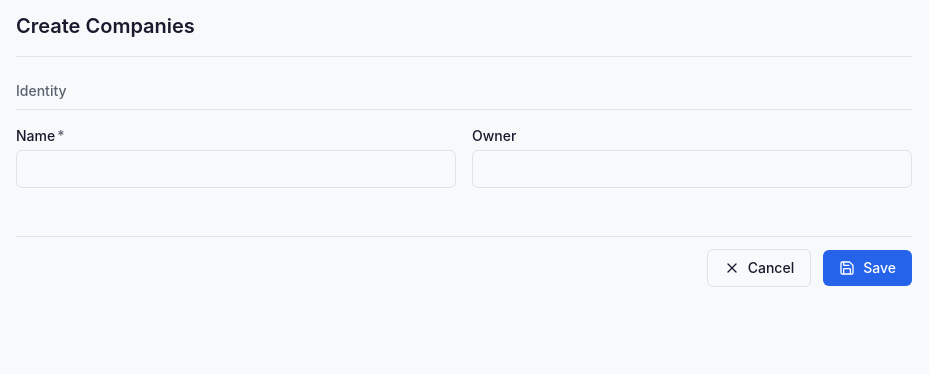
Test: Explicit fixed relationship submission › rejects undeclared or mistyped fixed values before HTTP: {"owner":"not-an-integer"}
Type "Child" into the field labelled "Name*" at x=236, y=169, box [16,150,456,188]
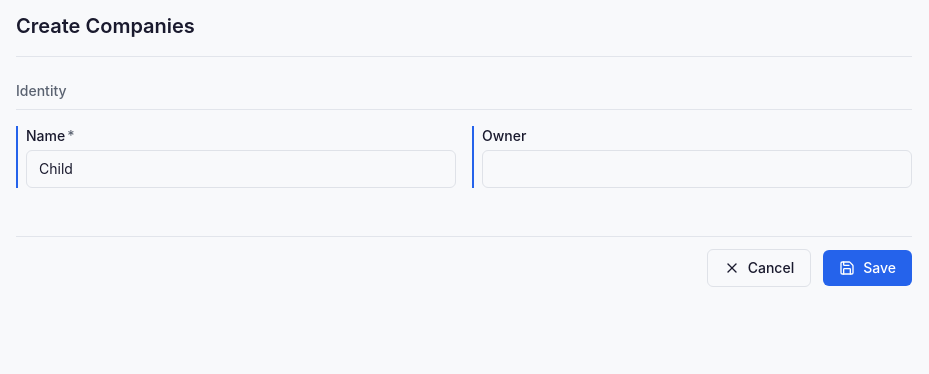
Click the button "Save" at x=868, y=268, box [823,250,912,286]
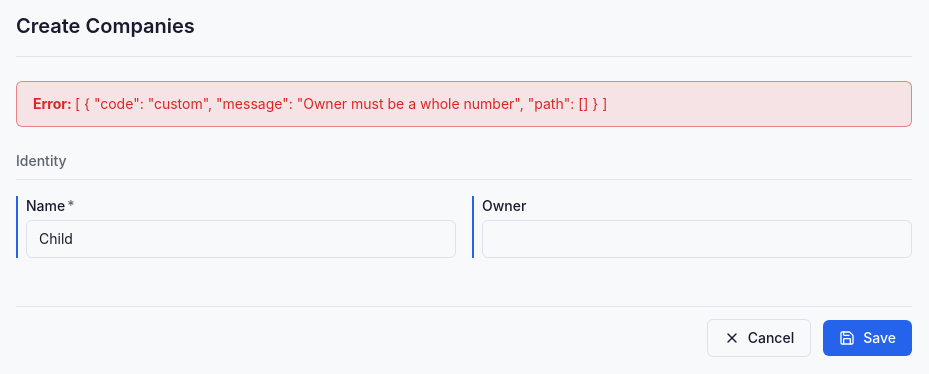
Now the message is shown, box [16,81,912,127]
